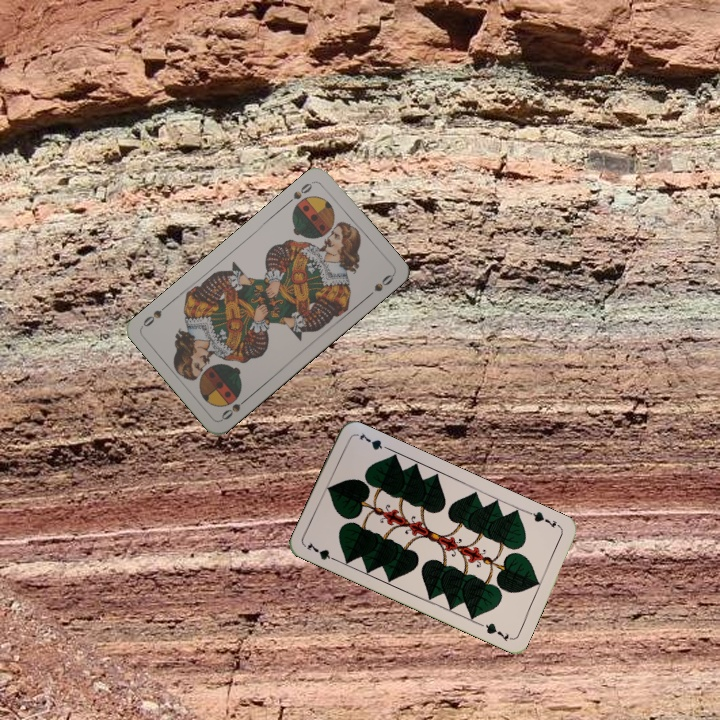G7: (303, 538, 341, 564), (525, 507, 563, 531)
SO: (282, 177, 317, 211), (217, 393, 252, 423)
